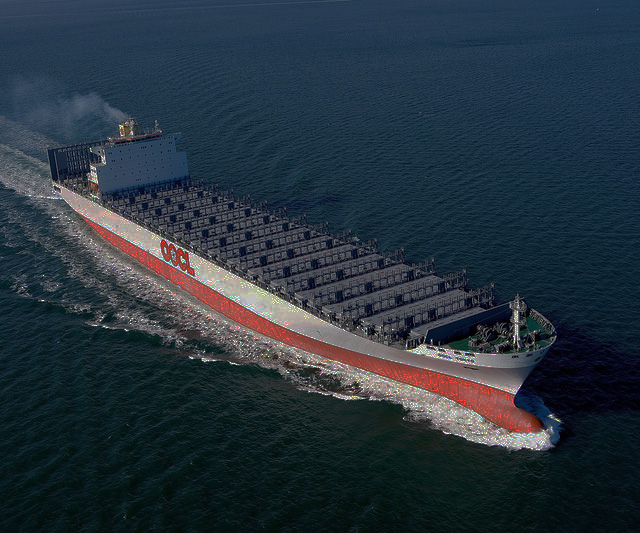container_ship: (44, 112, 564, 444)
